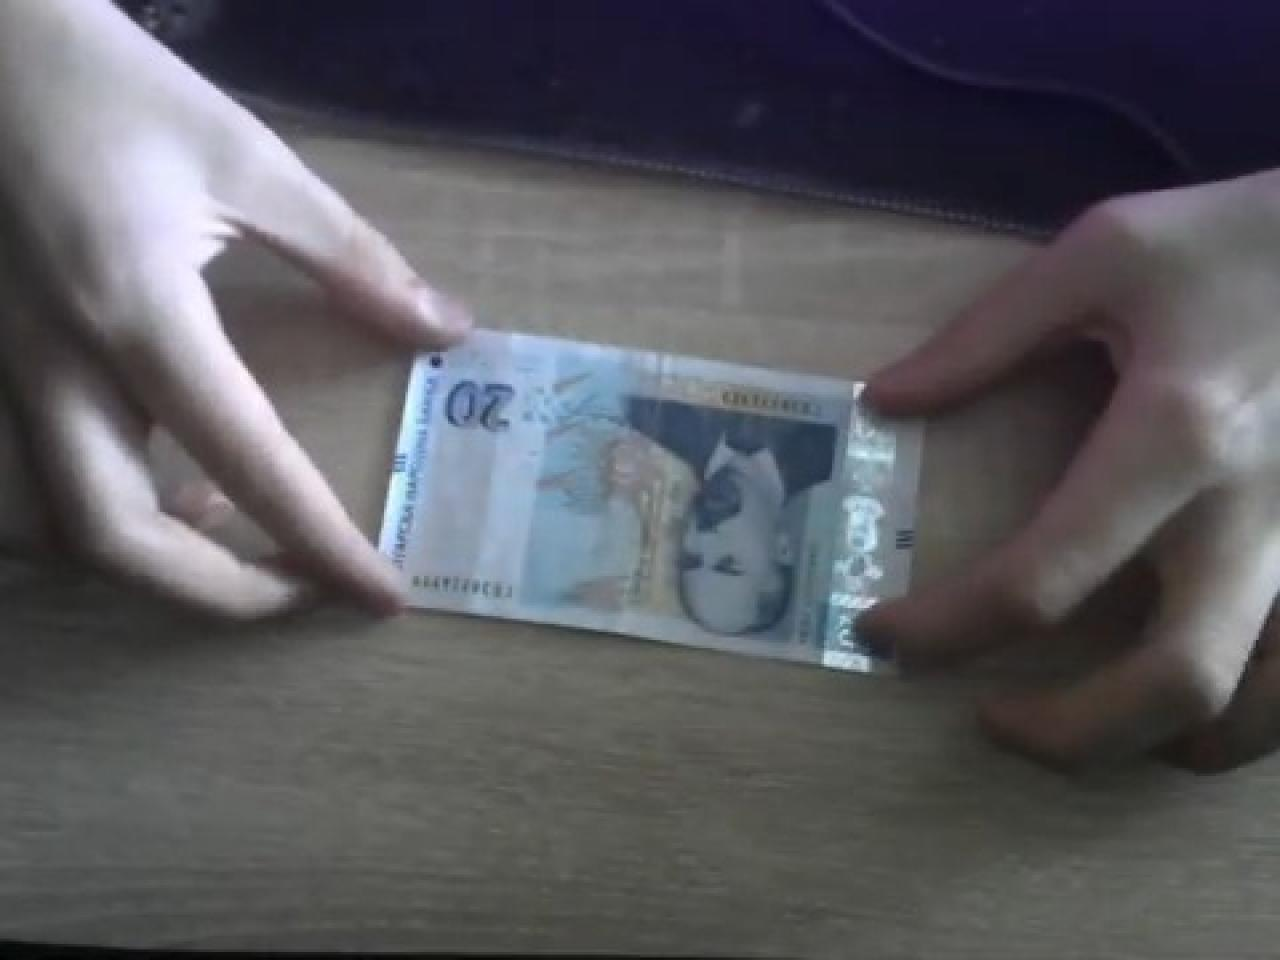20leva: (403, 339, 912, 670)
